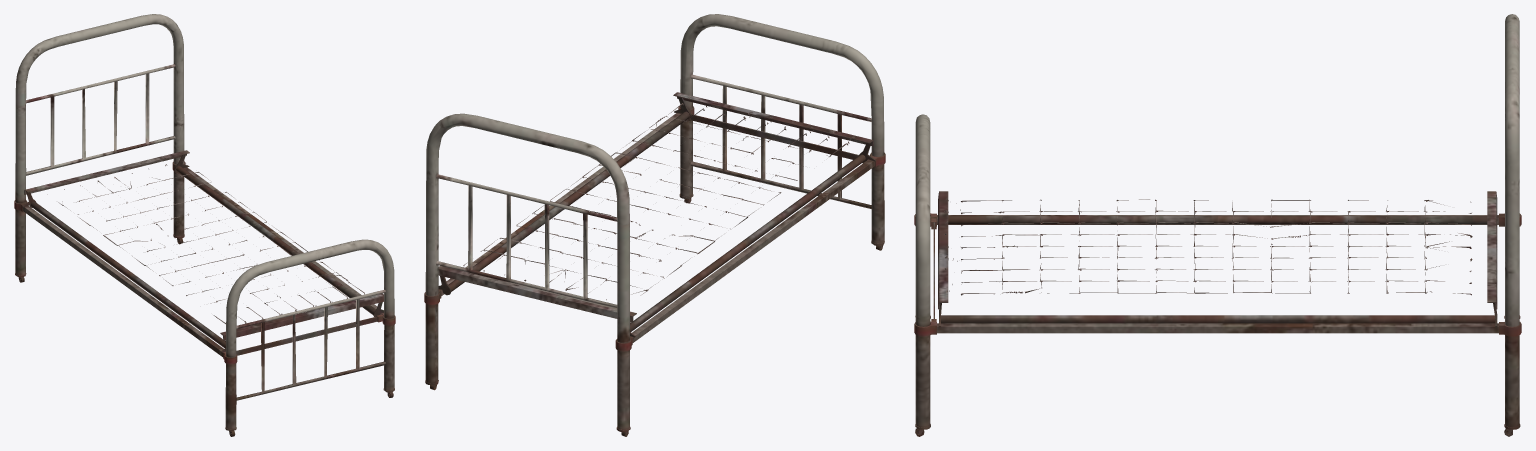
The model's file is bed-old-frame.lite.7cffaf83.glb.
The picture shows the model from 3 angles, left to right: view 1: azimuth 30°, elevation 25°; view 2: azimuth 150°, elevation 25°; view 3: azimuth 270°, elevation 25°; orthographic projection. The views are drawn at different scales.
Parts seen in each view (by area): view 1: model; view 2: model; view 3: model.
Boxes of the visible parts, x1,y1,x2,y2 form: model: (14,14,395,436); model: (424,14,885,436); model: (914,14,1521,436).
Bounding box in the file's own units: 0.9047 × 1.2 × 2.
1 material, 1 textured.
